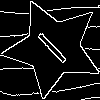I: (28, 23, 70, 66)
